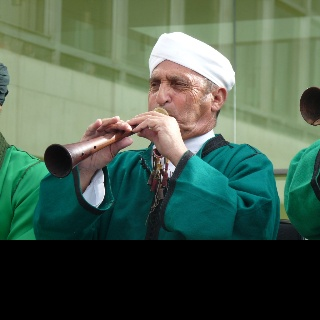without_mask: (148, 59, 215, 141)
